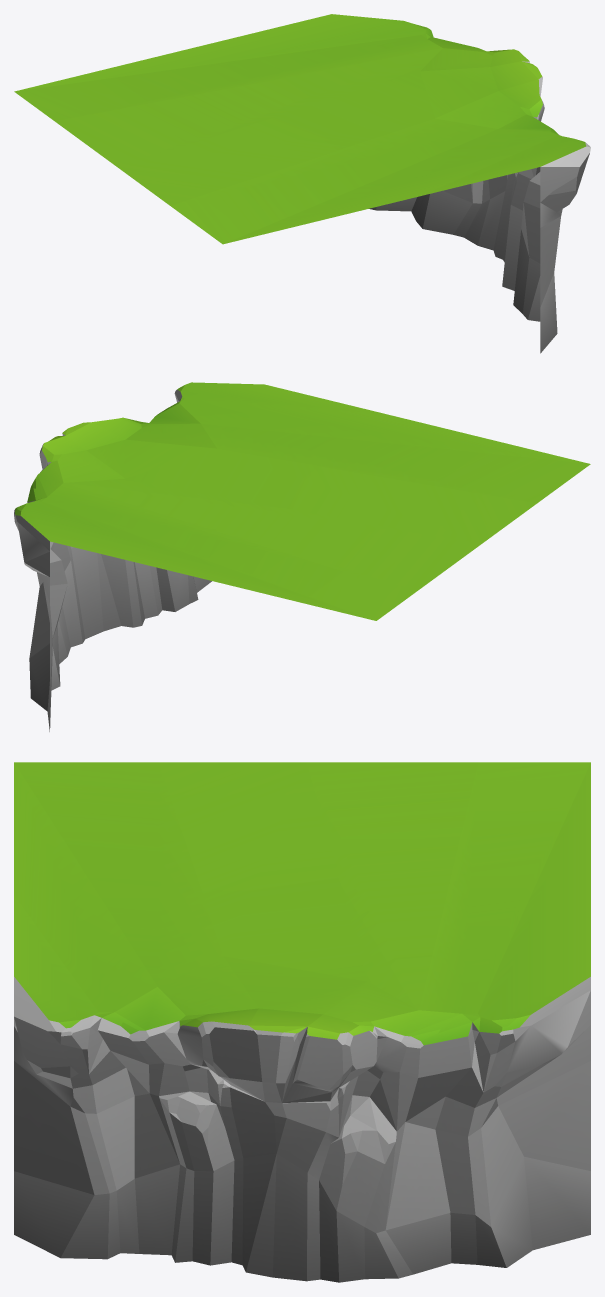
Rendered from Cliff_Plateau1.fbx.
The picture shows the model from 3 angles, top to bottom: view 1: azimuth 30°, elevation 25°; view 2: azimuth 150°, elevation 25°; view 3: azimuth 270°, elevation 25°; orthographic projection. The views are drawn at different scales.
Visible parts, largest first — view 1: Cliff_Plateau1; view 2: Cliff_Plateau1; view 3: Cliff_Plateau1.
Boxes of the visible parts, left/top/right/bottom form: Cliff_Plateau1: left=14, top=14, right=590, bottom=353; Cliff_Plateau1: left=14, top=382, right=590, bottom=731; Cliff_Plateau1: left=14, top=762, right=590, bottom=1282.
Bounding box in the file's own units: 68.57 × 30.57 × 59.48.
